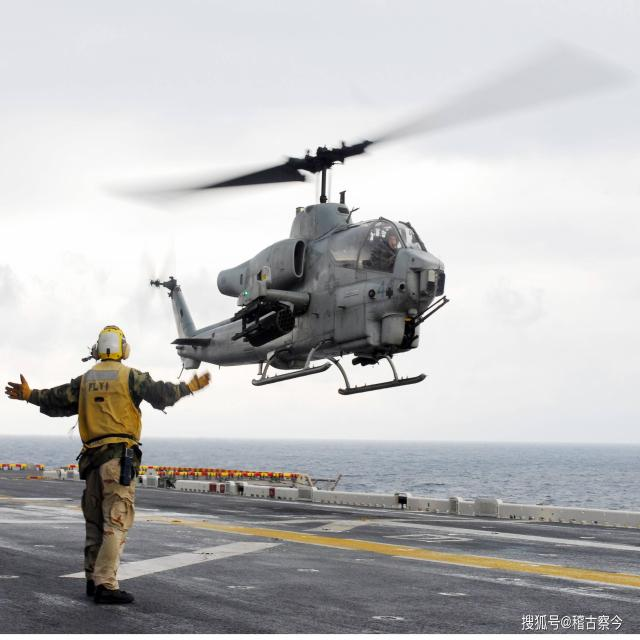MIL_HELO: (51, 30, 640, 404)
